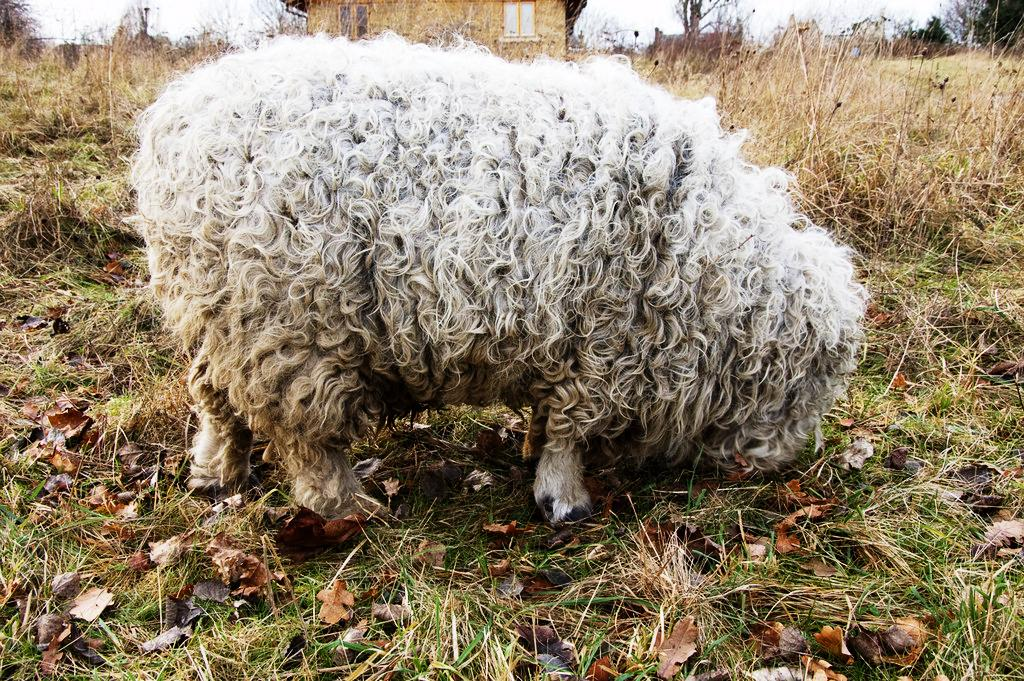Sheep: (132, 27, 874, 526)
